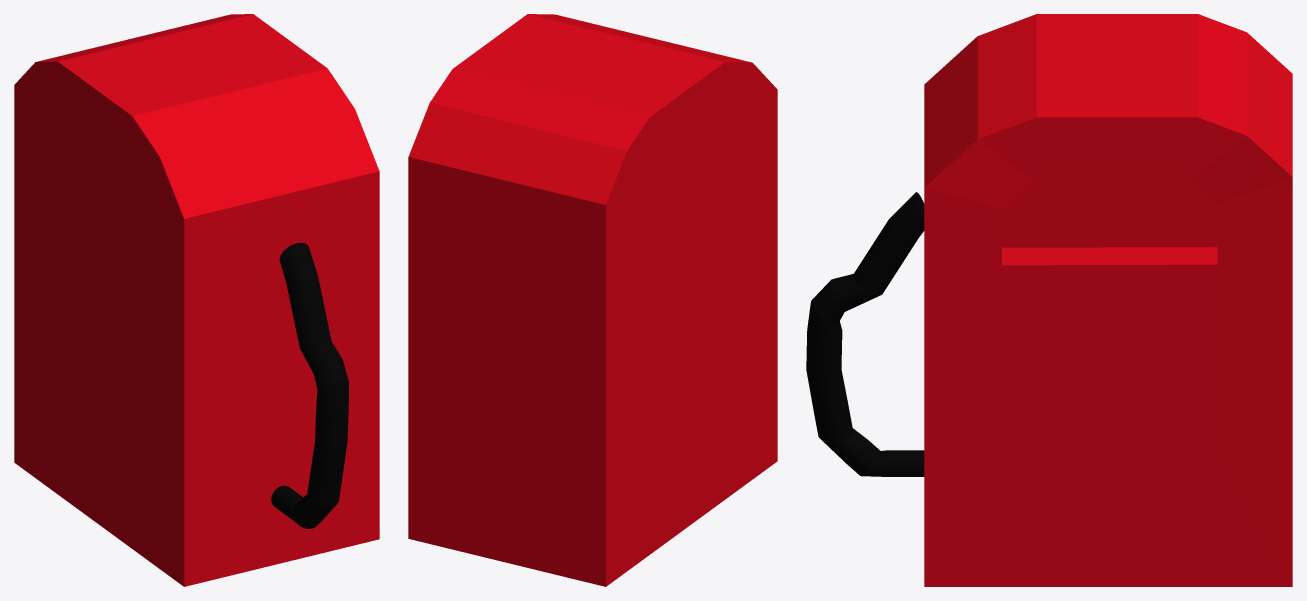
The model's file is GasPump.glb.
3 views of the same model, side by side, from view 1: azimuth 30°, elevation 25°; view 2: azimuth 150°, elevation 25°; view 3: azimuth 270°, elevation 25° (orthographic). The views are drawn at different scales.
Visible parts, largest first — view 1: GasPump, Tube; view 2: GasPump; view 3: GasPump, Tube.
Boxes of the visible parts, x1=… form: GasPump: x1=14, y1=14, x2=379, y2=586; Tube: x1=271, y1=242, x2=348, y2=528; GasPump: x1=408, y1=14, x2=777, y2=586; GasPump: x1=924, y1=14, x2=1292, y2=586; Tube: x1=806, y1=192, x2=924, y2=476.
Bounding box in the file's own units: 0.9128 × 1.91 × 1.79.
